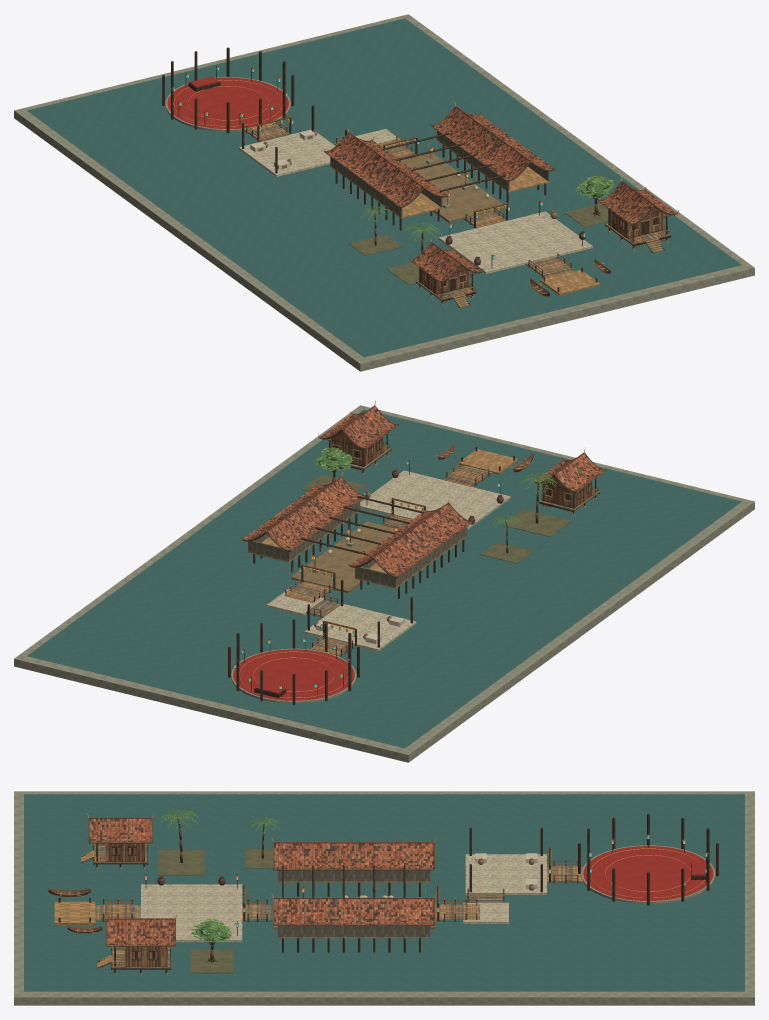
The model's file is dg-krasue.glb.
The picture shows the model from 3 angles, top to bottom: view 1: azimuth 30°, elevation 25°; view 2: azimuth 150°, elevation 25°; view 3: azimuth 270°, elevation 25°; orthographic projection. The views are drawn at different scales.
Visible parts, largest first — view 1: Water surface | water, Dungeon foundation | stone, Roof / overlapping clay tiles | roof, Courtyard flagstones | paving, Bedroom red lacquer floor | cloth_red, Roof / closed timber underlay | roof_under, Under-house packed earth | soil, Kitchen floor | paving, Roof / overlapping clay tiles | roof2, Dark islets | mud, Roof / overlapping clay tiles | tile_dark, Krasue stilt house walls | wood_weathered (+9 smaller); view 2: Water surface | water, Dungeon foundation | stone, Roof / overlapping clay tiles | roof, Bedroom red lacquer floor | cloth_red, Courtyard flagstones | paving, Roof / closed timber underlay | roof_under, Under-house packed earth | soil, Kitchen floor | paving, Roof / overlapping clay tiles | roof2, Dark islets | mud, Roof / overlapping clay tiles | tile_dark, Krasue stilt house walls | wood_weathered (+10 smaller); view 3: Water surface | water, Dungeon foundation | stone, Roof / overlapping clay tiles | roof, Bedroom red lacquer floor | cloth_red, Courtyard flagstones | paving, Roof / closed timber underlay | roof_under, Krasue stilt house walls | wood_weathered, Kitchen floor | paving, Dark islets | mud, Roof / overlapping clay tiles | roof2, Roof / overlapping clay tiles | tile_dark, Bedroom pillars | darkwood (+20 smaller).
Boxes of the visible parts, left/top/right/bottom form: Water surface | water: left=27, top=18, right=741, bottom=357; Dungeon foundation | stone: left=14, top=14, right=754, bottom=371; Roof / overlapping clay tiles | roof: left=326, top=108, right=676, bottom=280; Courtyard flagstones | paving: left=438, top=211, right=592, bottom=273; Bedroom red lacquer floor | cloth_red: left=167, top=77, right=288, bottom=128; Roof / closed timber underlay | roof_under: left=326, top=107, right=674, bottom=281; Under-house packed earth | soil: left=400, top=152, right=505, bottom=222; Kitchen floor | paving: left=238, top=129, right=335, bottom=176; Roof / overlapping clay tiles | roof2: left=328, top=111, right=674, bottom=279; Dark islets | mud: left=349, top=203, right=608, bottom=284; Roof / overlapping clay tiles | tile_dark: left=331, top=109, right=671, bottom=277; Krasue stilt house walls | wood_weathered: left=331, top=131, right=549, bottom=217; Water surface | water: left=27, top=409, right=741, bottom=748; Dungeon foundation | stone: left=14, top=405, right=754, bottom=762; Roof / overlapping clay tiles | roof: left=244, top=407, right=604, bottom=576; Bedroom red lacquer floor | cloth_red: left=233, top=649, right=354, bottom=700; Courtyard flagstones | paving: left=360, top=470, right=510, bottom=529; Roof / closed timber underlay | roof_under: left=244, top=409, right=602, bottom=577; Under-house packed earth | soil: left=291, top=521, right=398, bottom=592; Kitchen floor | paving: left=304, top=604, right=416, bottom=651; Roof / overlapping clay tiles | roof2: left=245, top=406, right=602, bottom=575; Dark islets | mud: left=301, top=474, right=571, bottom=563; Roof / overlapping clay tiles | tile_dark: left=247, top=412, right=598, bottom=573; Krasue stilt house walls | wood_weathered: left=248, top=501, right=467, bottom=586; Water surface | water: left=24, top=794, right=744, bottom=991; Dungeon foundation | stone: left=14, top=791, right=754, bottom=1005; Roof / overlapping clay tiles | roof: left=89, top=818, right=433, bottom=945; Bedroom red lacquer floor | cloth_red: left=583, top=846, right=713, bottom=900; Courtyard flagstones | paving: left=141, top=884, right=242, bottom=942; Roof / closed timber underlay | roof_under: left=89, top=818, right=433, bottom=945; Krasue stilt house walls | wood_weathered: left=278, top=870, right=430, bottom=936; Kitchen floor | paving: left=465, top=854, right=546, bottom=894; Dark islets | mud: left=158, top=848, right=273, bottom=973; Roof / overlapping clay tiles | roof2: left=89, top=818, right=433, bottom=945; Roof / overlapping clay tiles | tile_dark: left=89, top=818, right=433, bottom=945; Bedroom pillars | darkwood: left=578, top=814, right=718, bottom=905.
Size of the model in its own units: 96 by 13.42 by 146.
Materials: 32 (32 with a texture image).
